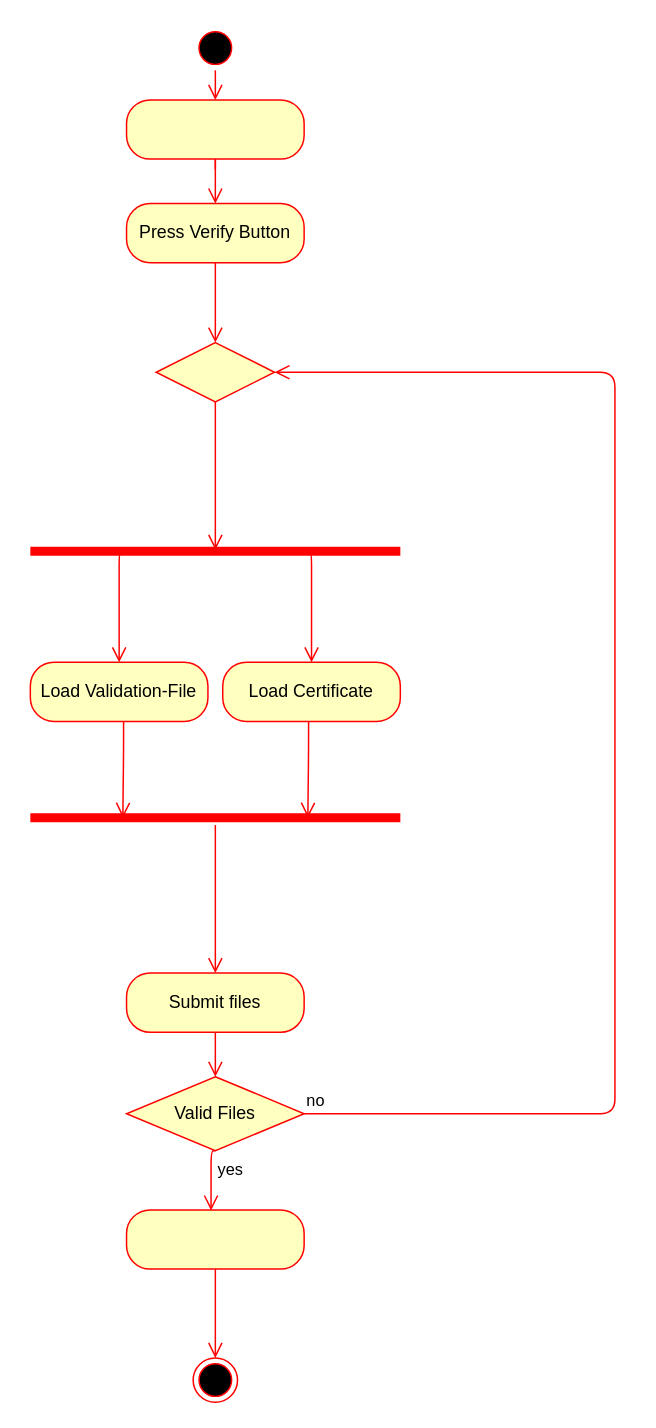
Image size: 656x1428. Some labels were removed from this diagram. The shapes that lost their labels are listed below. From the top down, each one's centre as x and y in pixels, then its label:
the point at 214,128: Create Advertiser-Acount
the point at 214,1238: Upload/Send File
